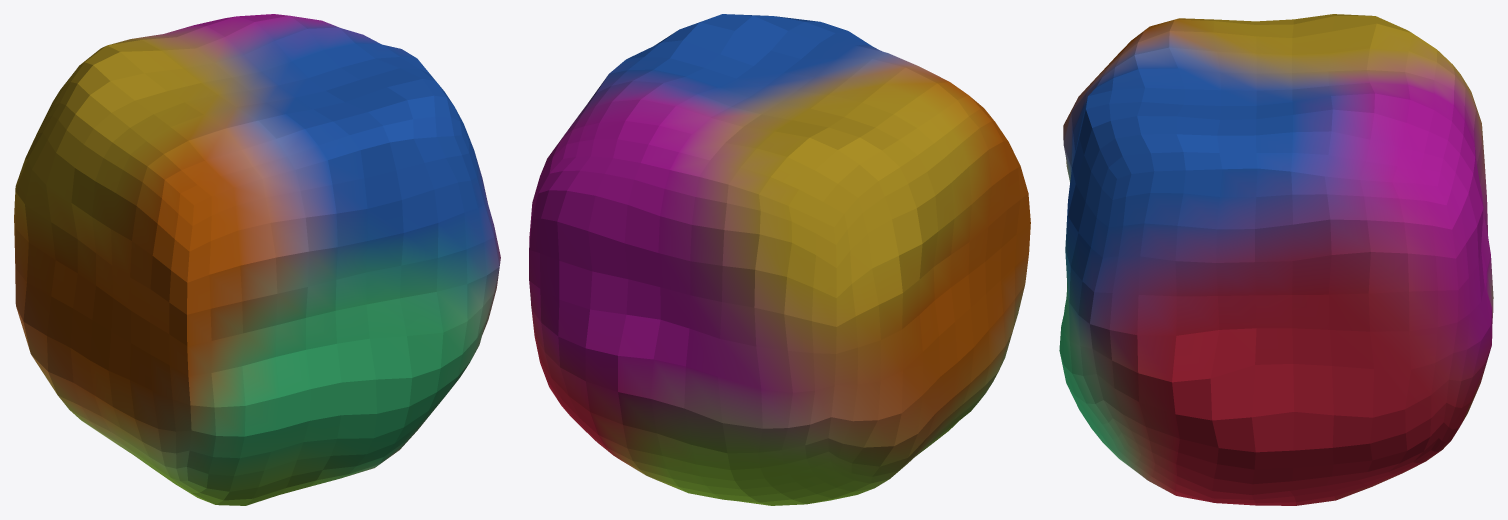
The model's file is notacube.glb.
3 views of the same model, side by side, from view 1: azimuth 30°, elevation 25°; view 2: azimuth 150°, elevation 25°; view 3: azimuth 270°, elevation 25° (orthographic). The views are drawn at different scales.
Visible parts, largest first — view 1: Cube; view 2: Cube; view 3: Cube.
Boxes of the visible parts, x1,y1,x2,y2 form: Cube: (14, 14, 500, 505); Cube: (529, 14, 1030, 505); Cube: (1059, 14, 1493, 505).
Size of the model in its own units: 2.24 by 2.24 by 2.23.
